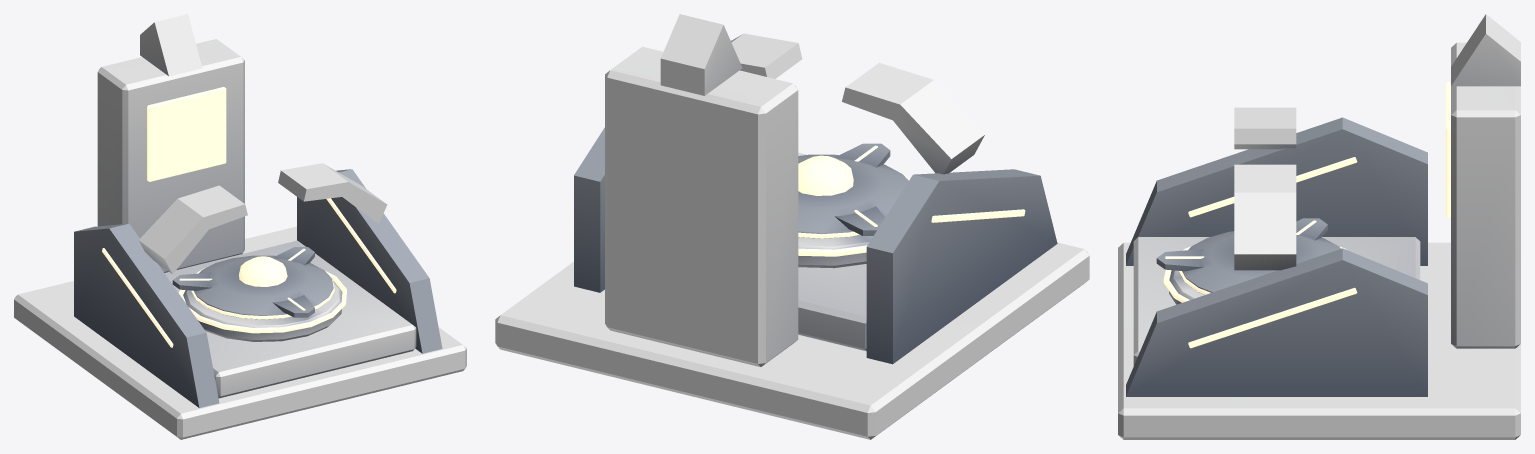
Rendered from R4X_ExplosiveTrapDeployer_LOD1.fbx.
The picture shows the model from 3 angles, left to right: view 1: azimuth 30°, elevation 25°; view 2: azimuth 150°, elevation 25°; view 3: azimuth 270°, elevation 25°; orthographic projection. The views are drawn at different scales.
Visible parts, largest first — view 1: R4X_ExplosiveTrapDeployer_LOD1; view 2: R4X_ExplosiveTrapDeployer_LOD1; view 3: R4X_ExplosiveTrapDeployer_LOD1.
Boxes of the visible parts, box(x1,y1,x2,y2) form: R4X_ExplosiveTrapDeployer_LOD1: box(14, 14, 466, 439); R4X_ExplosiveTrapDeployer_LOD1: box(495, 14, 1089, 439); R4X_ExplosiveTrapDeployer_LOD1: box(1118, 14, 1520, 439).
Size of the model in its own units: 0.52 by 0.475 by 0.52.
